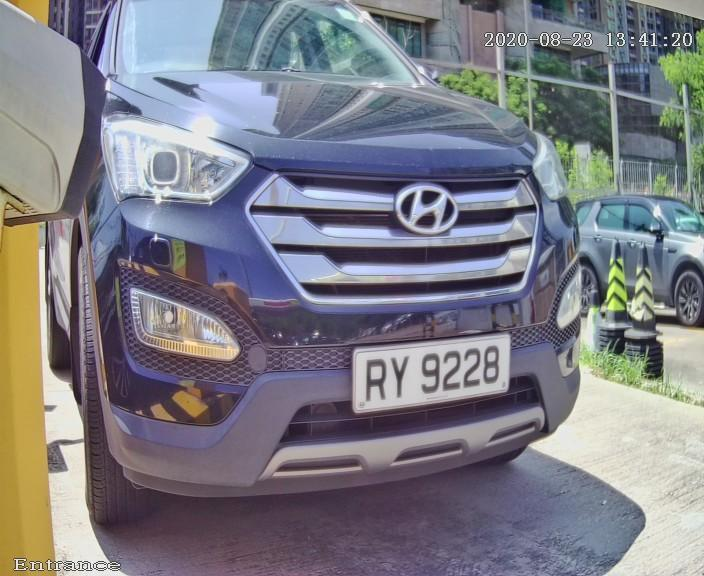Car: (10, 3, 626, 556)
License Plate: (314, 302, 555, 434)
